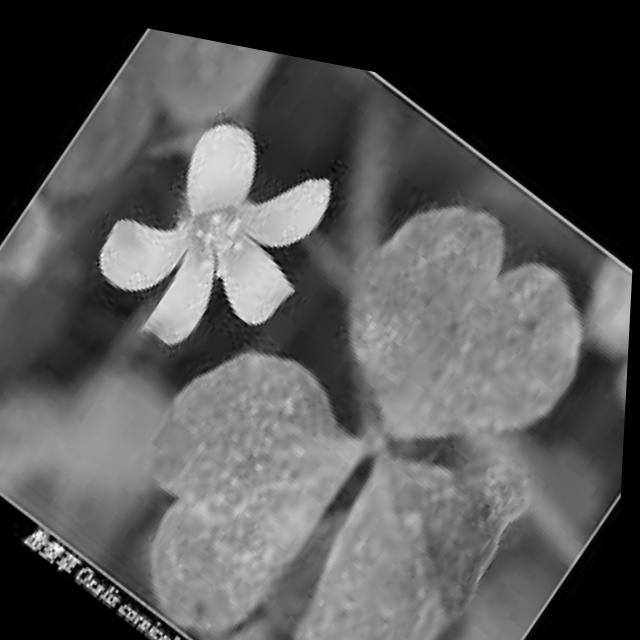Flower: (71, 59, 367, 412)
